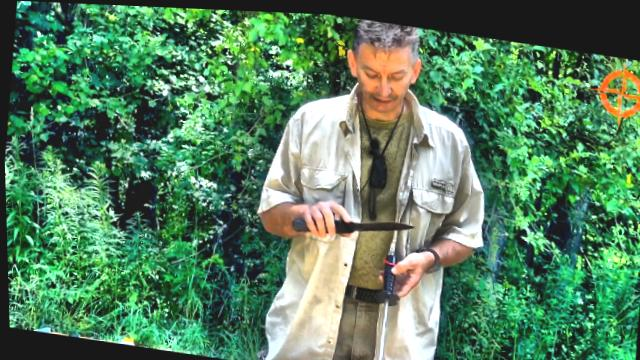knife: (288, 188, 419, 246)
